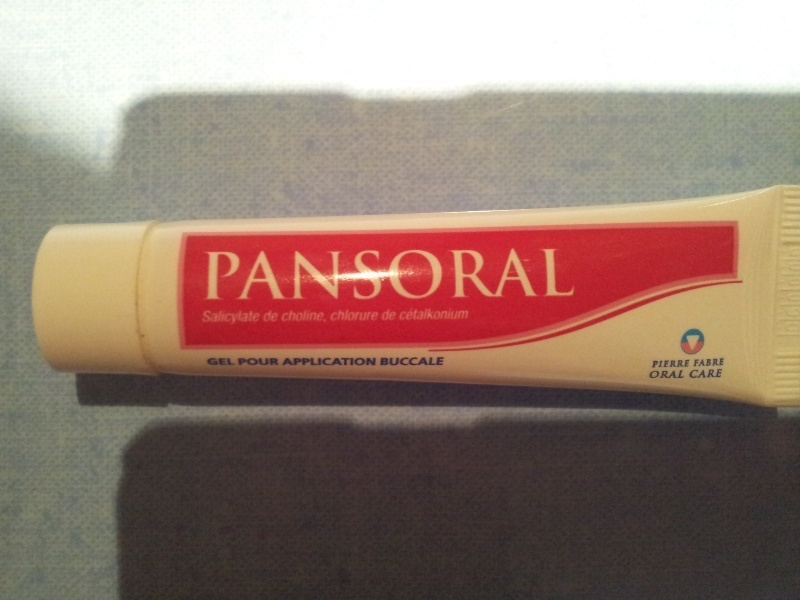text: (209, 246, 224, 300), (225, 246, 240, 300), (241, 246, 256, 300), (257, 246, 272, 300), (273, 246, 288, 300), (289, 246, 304, 300), (305, 246, 320, 300), (321, 246, 336, 300), (337, 246, 352, 300), (353, 246, 368, 300), (369, 246, 384, 300), (385, 246, 400, 300), (401, 246, 416, 300), (417, 246, 432, 300), (433, 246, 448, 300), (449, 246, 464, 300), (465, 246, 480, 300), (481, 246, 496, 300), (497, 246, 512, 300), (513, 246, 528, 300), (529, 246, 544, 300), (545, 246, 560, 300), (561, 246, 576, 300), (209, 309, 224, 325), (225, 309, 240, 325), (241, 309, 256, 325), (401, 307, 416, 322), (417, 307, 432, 322), (433, 307, 448, 322), (449, 307, 464, 322), (289, 309, 304, 324), (305, 309, 320, 324), (705, 356, 720, 370), (337, 309, 352, 322), (353, 309, 368, 322), (657, 357, 672, 370), (673, 357, 688, 370), (657, 368, 672, 381), (689, 368, 704, 381), (705, 368, 720, 381), (673, 368, 687, 381), (692, 356, 704, 370), (289, 356, 304, 367), (305, 356, 320, 367), (321, 356, 336, 367), (337, 356, 352, 367), (353, 356, 368, 367), (385, 356, 400, 367), (401, 356, 416, 367), (417, 356, 432, 367), (385, 309, 397, 322), (369, 309, 380, 322), (209, 358, 224, 367), (433, 356, 445, 367), (321, 309, 329, 324), (241, 358, 256, 366), (257, 358, 272, 366), (263, 310, 272, 323), (369, 356, 379, 367), (225, 358, 236, 367), (202, 309, 208, 325), (329, 309, 336, 322), (649, 368, 656, 381), (282, 309, 288, 324), (721, 356, 727, 370), (273, 310, 279, 323), (281, 356, 288, 367), (465, 307, 470, 322), (651, 357, 656, 370), (257, 309, 261, 325), (273, 358, 280, 366), (207, 246, 208, 300), (689, 357, 693, 370), (380, 356, 384, 367), (721, 368, 724, 381), (382, 309, 384, 322), (237, 358, 240, 366), (399, 307, 400, 322), (207, 358, 208, 367)
